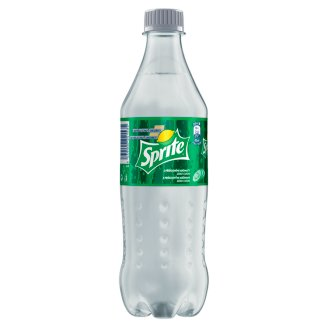sprite: (140, 136, 183, 167)
